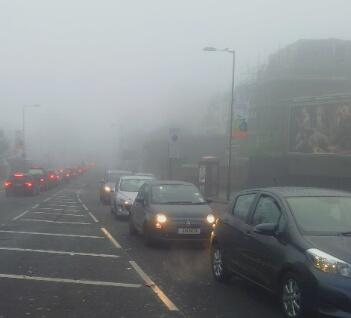bird: (286, 96, 346, 153)
boat: (204, 58, 344, 224), (276, 94, 347, 154)
book: (282, 95, 347, 154)
bus: (160, 43, 289, 245), (209, 122, 350, 290), (204, 65, 348, 220), (204, 102, 298, 224), (231, 82, 345, 172), (182, 61, 242, 211), (126, 178, 214, 244), (103, 171, 150, 214), (99, 168, 134, 202), (3, 169, 40, 197), (15, 166, 44, 189), (103, 168, 134, 187), (27, 168, 47, 192), (36, 169, 54, 189), (46, 169, 58, 185)
car: (205, 116, 350, 281), (204, 58, 344, 224), (209, 184, 350, 313), (197, 149, 308, 238), (151, 175, 265, 255), (206, 185, 292, 276), (224, 183, 345, 246), (127, 178, 214, 245), (260, 93, 345, 154), (110, 174, 190, 232), (97, 169, 160, 229), (208, 191, 261, 255), (231, 182, 331, 215), (224, 187, 274, 235), (204, 190, 237, 258), (120, 177, 182, 211), (195, 163, 225, 232), (108, 175, 152, 217), (125, 177, 156, 236), (206, 202, 229, 281), (97, 169, 142, 207), (4, 157, 48, 189), (1, 146, 31, 192), (201, 190, 224, 246), (107, 171, 157, 196), (118, 183, 144, 228), (196, 154, 219, 200), (126, 174, 160, 205), (197, 187, 220, 231), (107, 178, 132, 217), (3, 171, 38, 198), (22, 165, 55, 193), (111, 190, 145, 217), (127, 189, 146, 237), (11, 167, 44, 193), (98, 174, 125, 205), (99, 170, 130, 194), (106, 169, 151, 184), (102, 167, 136, 186), (4, 149, 28, 174), (204, 197, 221, 232), (6, 159, 41, 176), (96, 170, 113, 204), (21, 162, 47, 184), (121, 176, 156, 192), (3, 170, 29, 191), (118, 172, 156, 185), (127, 169, 163, 182), (27, 167, 45, 191), (12, 157, 45, 170), (205, 208, 218, 241), (100, 177, 117, 201), (10, 177, 33, 194), (6, 162, 29, 179), (10, 167, 39, 180), (16, 164, 45, 177), (39, 167, 62, 183), (36, 169, 54, 189), (10, 173, 35, 187), (28, 175, 44, 196), (24, 171, 39, 193), (1, 171, 15, 192), (97, 169, 108, 194), (126, 174, 153, 183), (6, 170, 26, 182), (29, 167, 46, 181), (30, 171, 47, 185), (98, 180, 109, 201), (130, 172, 156, 180), (34, 175, 46, 192), (37, 170, 47, 190), (44, 170, 55, 188), (4, 170, 18, 184), (37, 168, 54, 179), (46, 169, 59, 183), (18, 168, 38, 177), (39, 175, 50, 191), (2, 178, 12, 194), (51, 169, 63, 182), (56, 168, 70, 179), (26, 166, 43, 175), (133, 170, 154, 177), (96, 178, 104, 196), (1, 175, 11, 189), (11, 169, 25, 178), (62, 168, 73, 178)
cat: (287, 97, 346, 153)
clock: (287, 97, 346, 153)
motorcycle: (113, 176, 149, 228), (97, 174, 117, 205)
parking meter: (97, 174, 117, 205)
person: (287, 97, 346, 153), (265, 105, 324, 154), (123, 176, 162, 235), (111, 173, 153, 221), (295, 111, 330, 153), (289, 104, 317, 152), (301, 106, 323, 144), (11, 170, 38, 198), (292, 107, 309, 147), (97, 174, 117, 205), (130, 182, 146, 218), (205, 208, 218, 241), (311, 140, 341, 153), (13, 128, 25, 158), (135, 182, 148, 204), (197, 175, 206, 200), (40, 170, 51, 189), (46, 169, 58, 185), (191, 189, 205, 202), (38, 171, 47, 191), (311, 143, 327, 153), (238, 118, 247, 133)
traffic light: (280, 95, 347, 154), (197, 165, 205, 190), (238, 118, 247, 133)
train: (204, 58, 344, 224)
truck: (160, 43, 289, 245), (209, 122, 350, 290), (204, 65, 348, 220), (204, 102, 298, 224), (231, 82, 345, 172), (182, 61, 242, 211), (224, 183, 345, 246), (127, 176, 214, 245), (110, 174, 190, 232), (105, 173, 152, 216), (194, 156, 224, 221), (120, 178, 152, 235), (96, 169, 143, 206), (2, 157, 44, 190), (13, 166, 53, 195), (4, 170, 39, 197), (98, 174, 125, 205), (106, 169, 151, 184), (104, 168, 134, 187), (14, 168, 43, 186), (3, 171, 29, 190), (118, 172, 156, 185), (27, 167, 45, 191), (43, 167, 65, 185), (36, 169, 54, 189), (33, 170, 48, 191), (130, 172, 156, 180), (46, 169, 58, 185), (51, 169, 63, 182), (56, 168, 68, 180), (60, 168, 72, 179)
tv: (282, 95, 347, 154)
umbrella: (282, 95, 347, 154)
